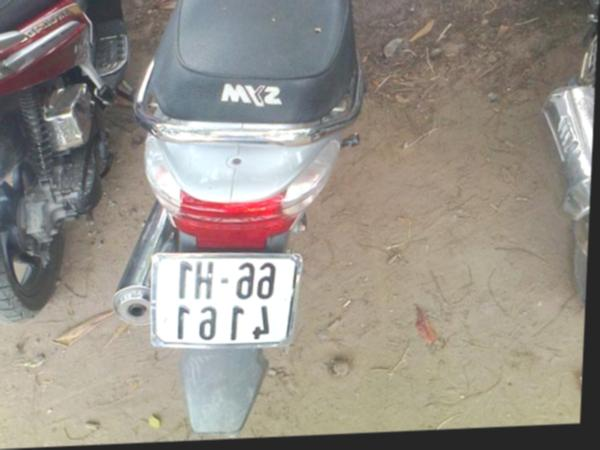License_Plate: (148, 253, 301, 349)
